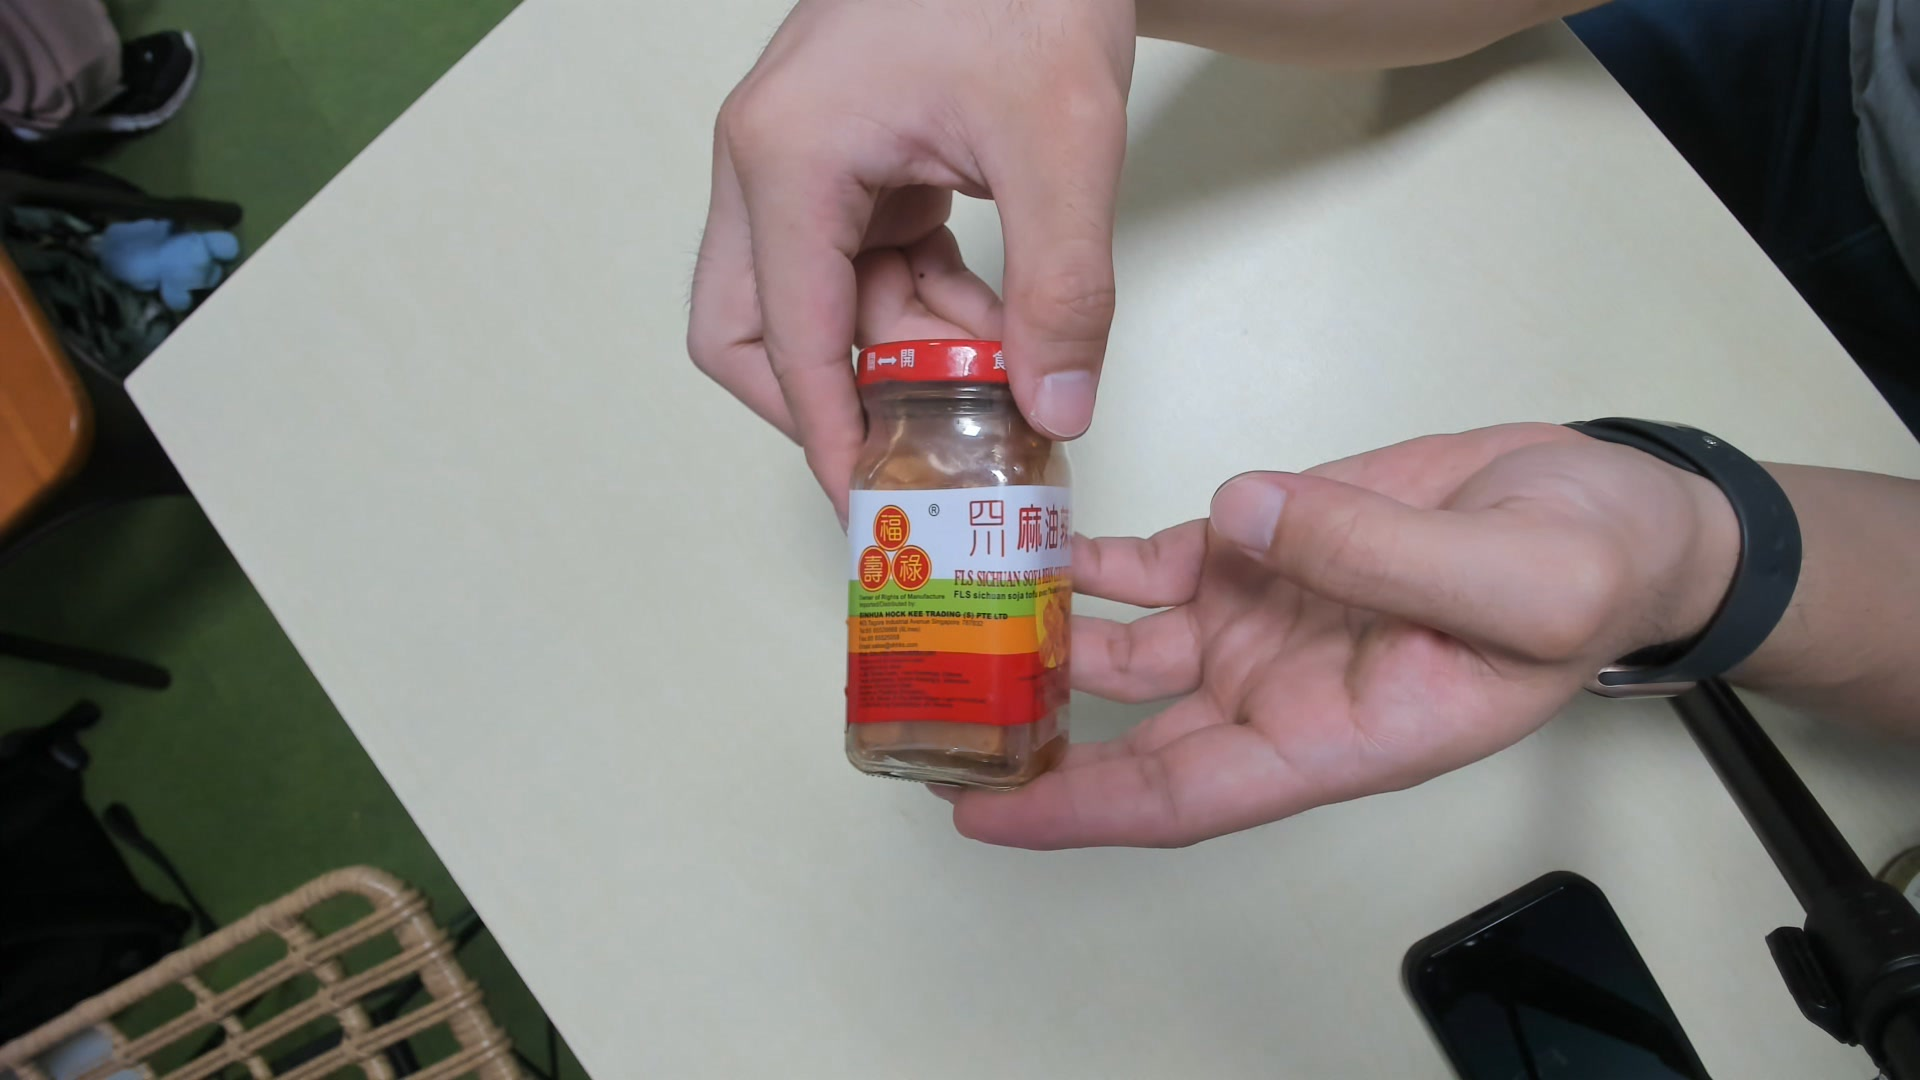OtherSauceDressing_100-199g_NonHalal_NonHealthy: (843, 347, 1067, 790)
